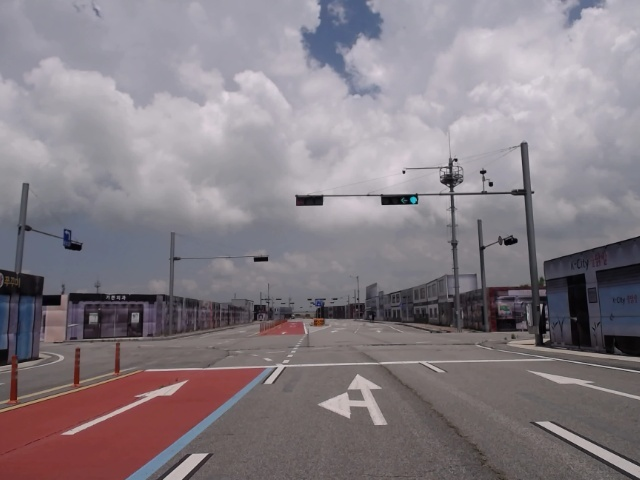all_green_4: (381, 194, 420, 208)
